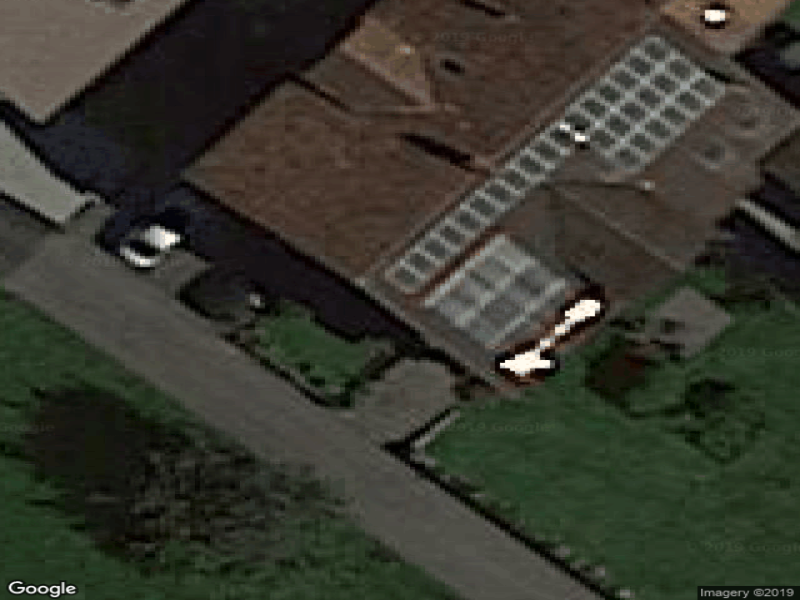pv: (383, 34, 725, 300)
